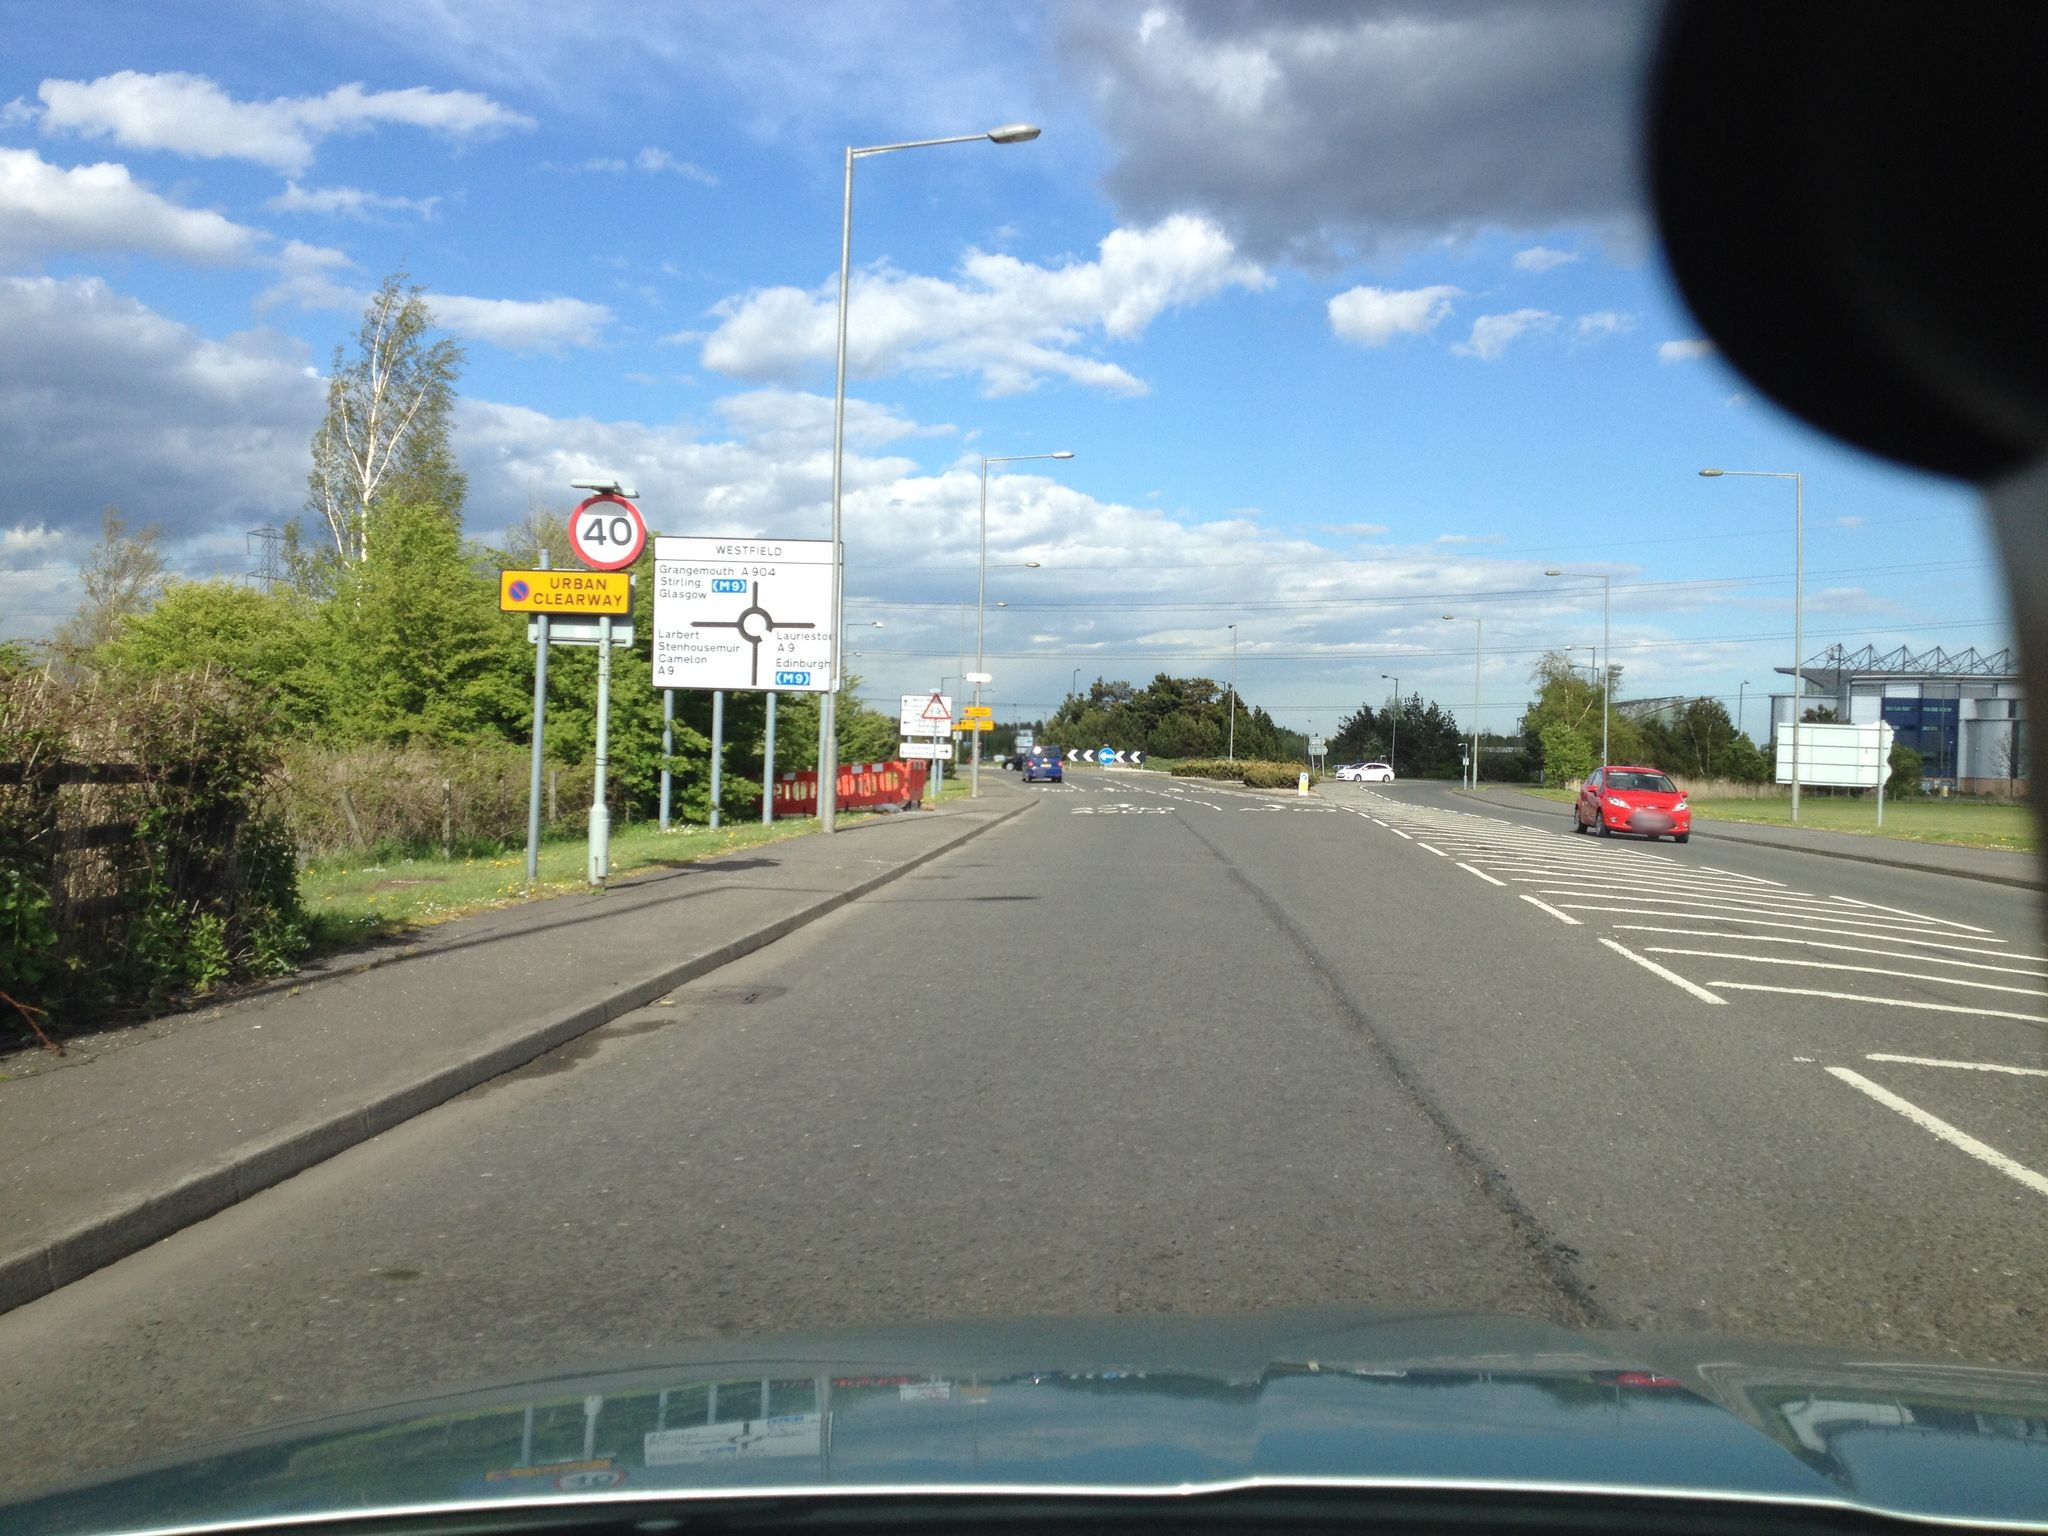car: (1571, 766, 1692, 842), (1021, 745, 1063, 783), (1335, 762, 1395, 783)
